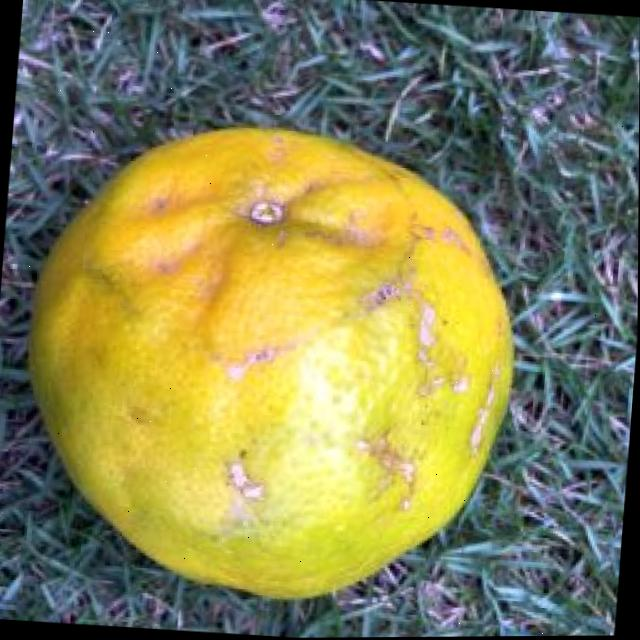Wet: (9, 100, 542, 619)
